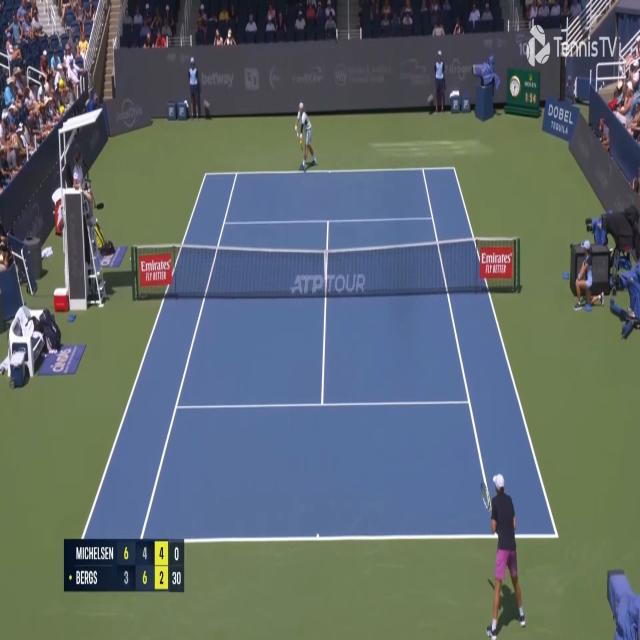tennis-player: (484, 470, 530, 639), (294, 99, 318, 172)
